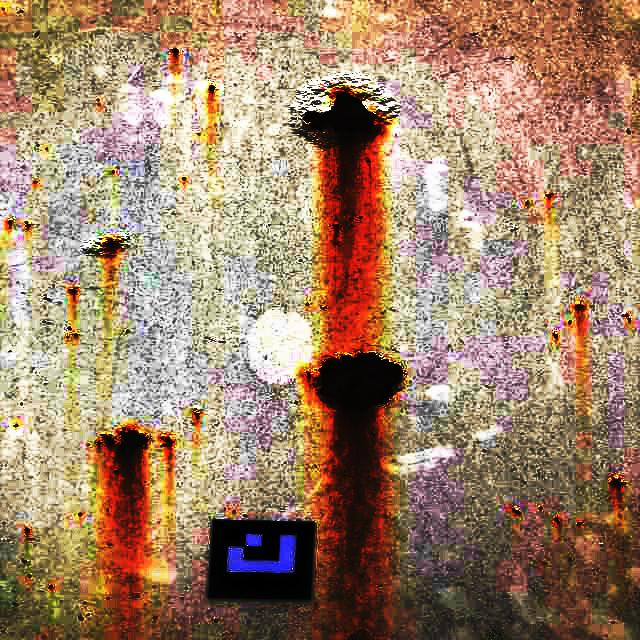Corrosion: (289, 72, 400, 150), (305, 351, 406, 415), (83, 232, 129, 257), (116, 428, 151, 456), (101, 431, 116, 447), (161, 435, 174, 446), (609, 476, 622, 486), (193, 407, 201, 416), (554, 516, 562, 525), (332, 223, 339, 230), (172, 48, 180, 54), (513, 508, 521, 514), (575, 303, 583, 309), (546, 192, 554, 197), (209, 85, 215, 91), (25, 527, 31, 533), (27, 221, 33, 227), (553, 332, 558, 338), (524, 201, 530, 206), (98, 440, 103, 445), (72, 288, 77, 293), (7, 219, 12, 224), (569, 320, 572, 324), (50, 584, 52, 588)
